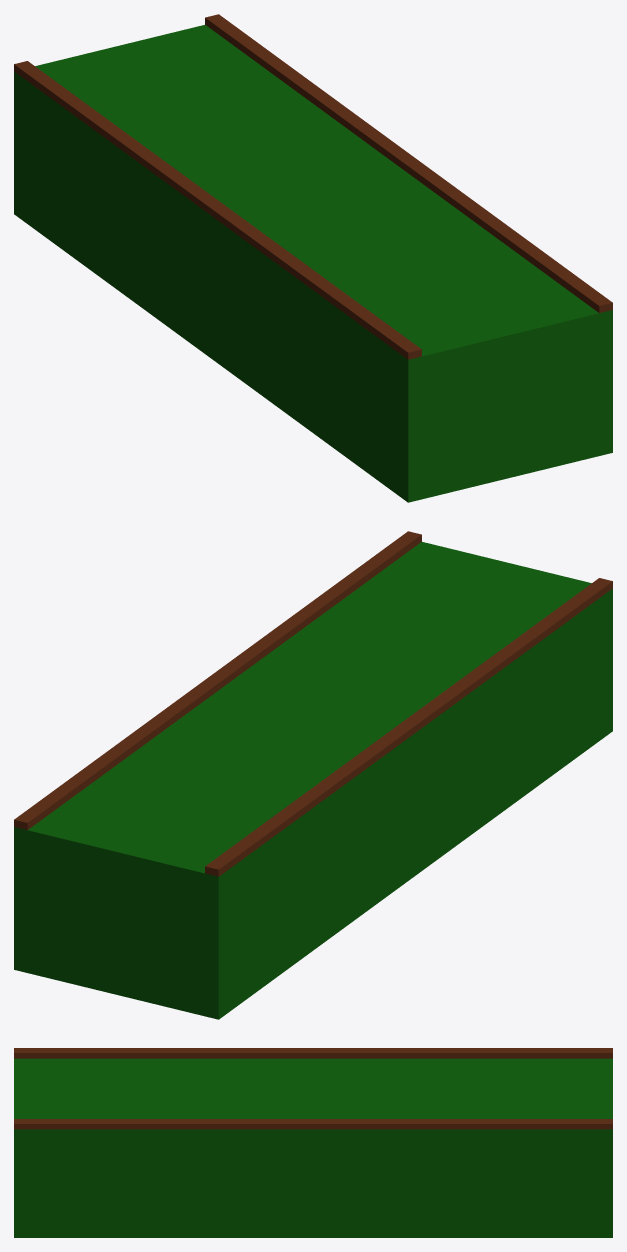
File: BasicGrassFloor.fbx
3 views of the same model, one above another, from view 1: azimuth 30°, elevation 25°; view 2: azimuth 150°, elevation 25°; view 3: azimuth 270°, elevation 25° (orthographic). The views are drawn at different scales.
Parts seen in each view (by area): view 1: Cube, Cube.002; view 2: Cube, Cube.002; view 3: Cube, Cube.002.
Boxes of the visible parts, x1,y1,x2,y2 form: Cube: [14, 25, 612, 502]; Cube.002: [14, 14, 612, 359]; Cube: [14, 542, 612, 1019]; Cube.002: [14, 531, 612, 876]; Cube: [14, 1058, 612, 1237]; Cube.002: [14, 1048, 612, 1129].
Size of the model in its own units: 300 by 210 by 1000.
